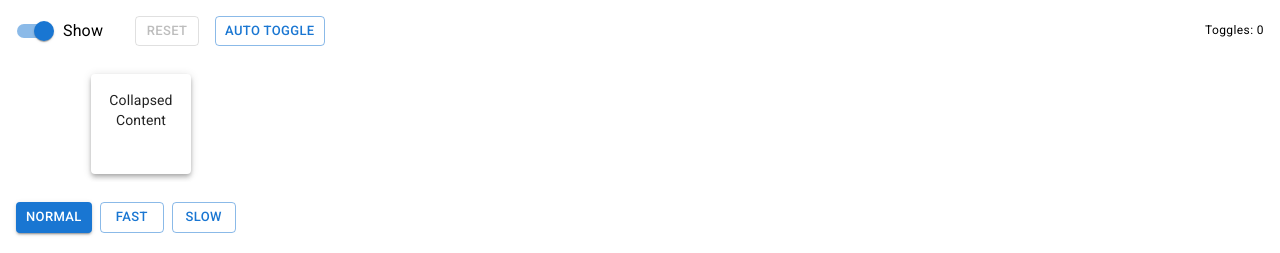
Test case: Play (SimpleCollapse) › toggles switch multiple times
Step 1. Click the checkbox → (60, 31), box x1=17 y1=21 x2=103 y2=41
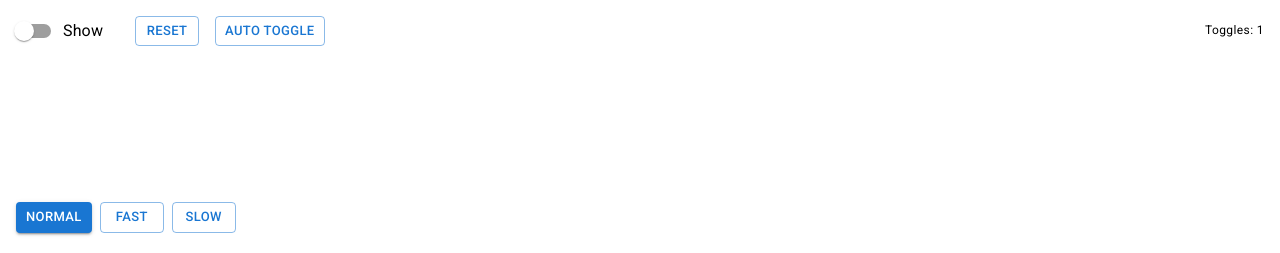
Now the checkbox is not checked
Step 2. Click the checkbox → (34, 31), box x1=14 y1=21 x2=103 y2=41
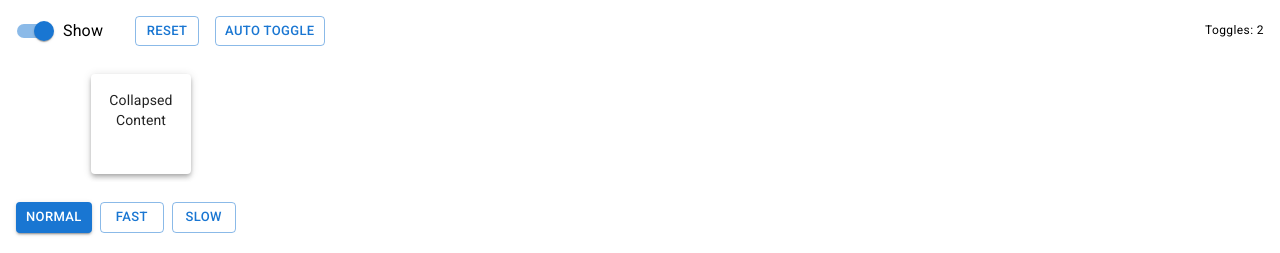
Now the checkbox is checked
Step 3. Click the checkbox → (60, 31), box x1=17 y1=21 x2=103 y2=41
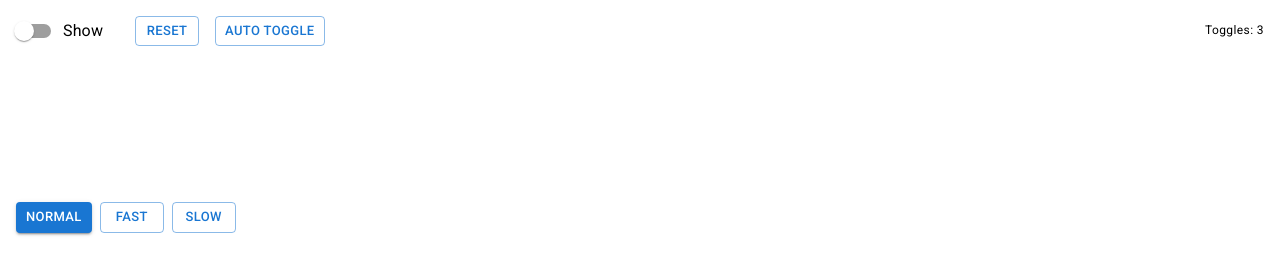
Now the checkbox is not checked, box x1=14 y1=21 x2=103 y2=41
